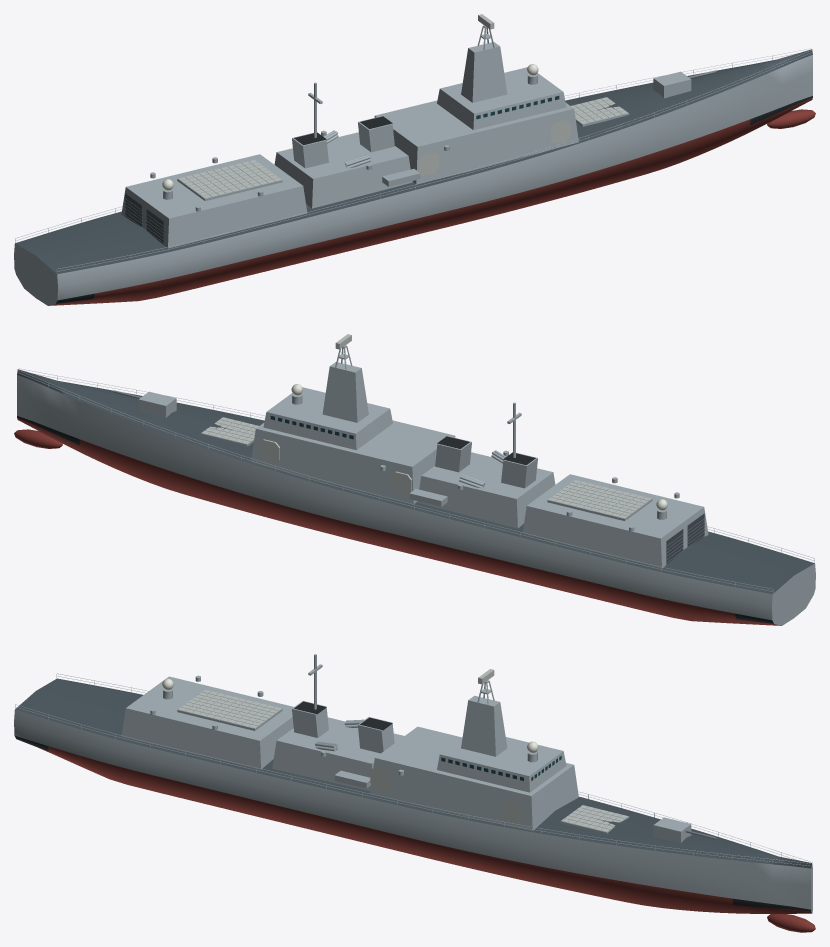
The model's file is jmsdf_ddg_maya.glb.
3 renders of one model, top to bottom at view 1: azimuth 30°, elevation 25°; view 2: azimuth 150°, elevation 25°; view 3: azimuth 330°, elevation 25°, orthographic.
Visible parts, largest first — view 1: naval_paint, deck_non_skid, antifouling, array_face; view 2: naval_paint, deck_non_skid, antifouling, array_face; view 3: naval_paint, antifouling, deck_non_skid, array_face, boot_topping.
Boxes of the visible parts, x1,y1,x2,y2 form: naval_paint: (14, 25, 812, 305); deck_non_skid: (15, 49, 812, 274); antifouling: (48, 97, 815, 305); array_face: (178, 14, 628, 198); naval_paint: (17, 345, 815, 625); deck_non_skid: (17, 369, 814, 594); antifouling: (14, 417, 781, 625); array_face: (201, 334, 651, 518); naval_paint: (14, 654, 812, 913); antifouling: (29, 744, 815, 932); deck_non_skid: (15, 678, 811, 868); array_face: (178, 669, 628, 832); boot_topping: (15, 736, 811, 911).
Size of the model in its own units: 10 by 2.28 by 1.25.
